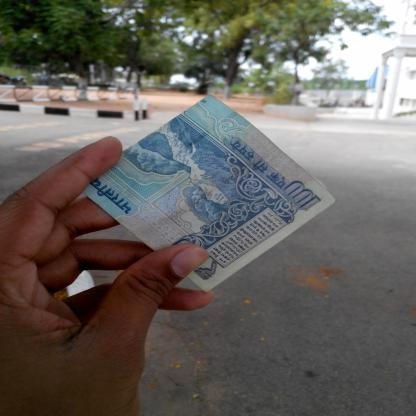Old100Back: (83, 94, 336, 293)
